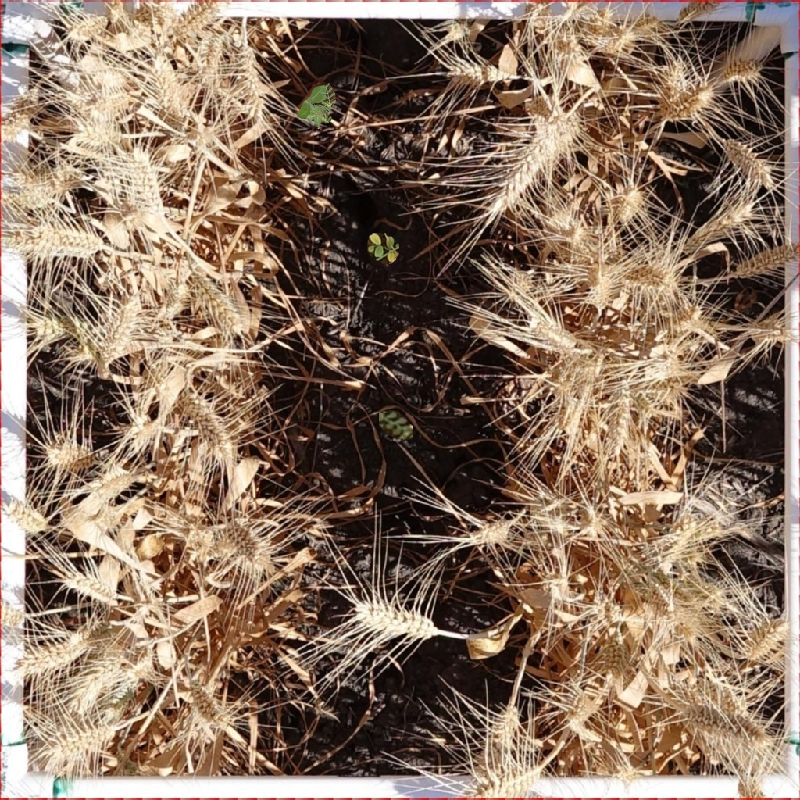spikelet: (485, 105, 579, 218), (349, 592, 441, 643), (682, 200, 757, 253), (15, 628, 89, 680), (41, 718, 119, 767), (696, 728, 782, 772), (189, 272, 248, 334), (230, 39, 271, 122), (191, 394, 238, 465), (30, 219, 107, 262), (718, 134, 776, 190), (69, 652, 122, 713), (182, 675, 235, 735), (99, 291, 145, 360), (122, 142, 165, 215), (586, 634, 633, 700), (147, 53, 191, 122), (226, 517, 273, 577), (61, 561, 121, 606), (698, 667, 748, 721), (628, 253, 679, 305), (524, 308, 581, 354), (104, 656, 154, 708), (600, 383, 635, 457), (465, 768, 542, 800), (658, 80, 715, 123), (1, 421, 32, 499), (584, 16, 642, 56), (443, 55, 512, 88), (731, 240, 788, 279), (73, 52, 127, 93), (42, 433, 95, 474), (192, 29, 228, 89), (662, 595, 707, 643), (2, 493, 51, 537), (485, 698, 525, 751), (67, 115, 121, 154), (740, 615, 785, 661), (461, 514, 515, 551), (530, 494, 575, 536), (669, 510, 720, 546), (152, 365, 187, 415), (585, 264, 622, 311), (8, 178, 58, 212), (121, 412, 161, 454), (642, 347, 685, 386), (64, 10, 108, 44), (374, 405, 415, 441), (612, 182, 646, 224), (1, 106, 39, 143), (183, 524, 219, 563), (718, 55, 764, 85), (113, 19, 153, 53)
weed: (297, 83, 336, 129), (379, 410, 413, 440), (367, 233, 399, 264)
